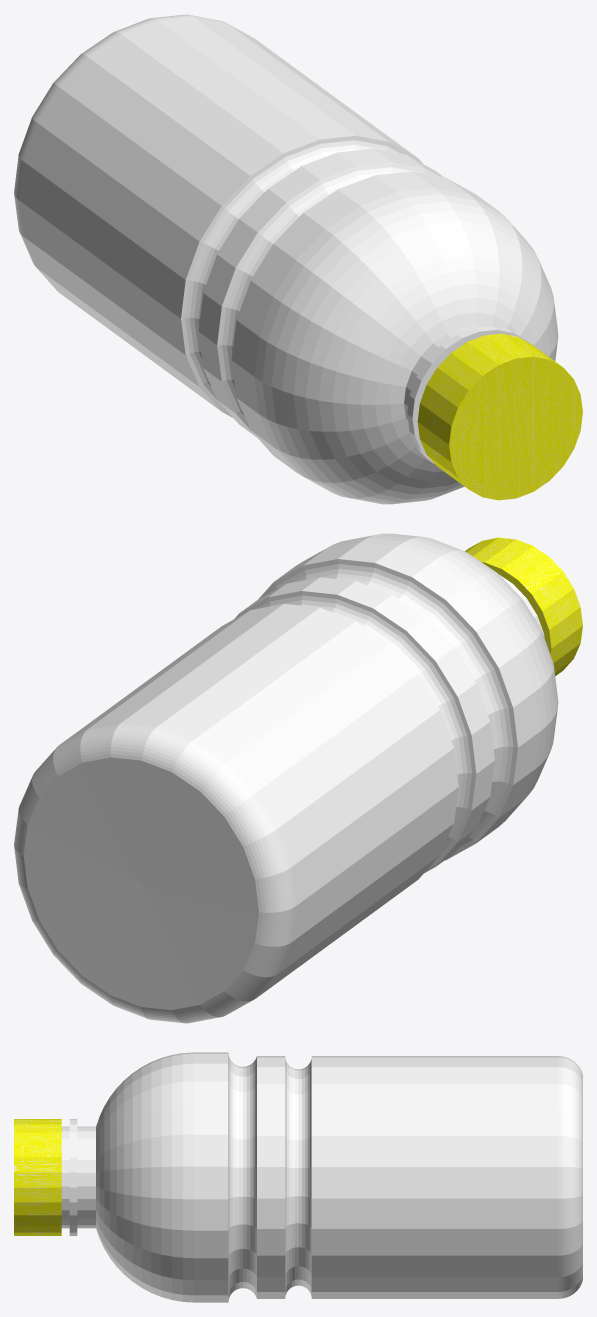
3 views of the same model, one above another, from view 1: azimuth 30°, elevation 25°; view 2: azimuth 150°, elevation 25°; view 3: azimuth 270°, elevation 25° (orthographic). The views are drawn at different scales.
Visible parts, largest first — view 1: bottle; view 2: bottle; view 3: bottle.
Boxes of the visible parts, left/top/right/bottom form: bottle: left=14, top=14, right=582, bottom=504; bottle: left=14, top=533, right=582, bottom=1023; bottle: left=14, top=1052, right=582, bottom=1302.
Bounding box in the file's own units: 291 × 291 × 660.
